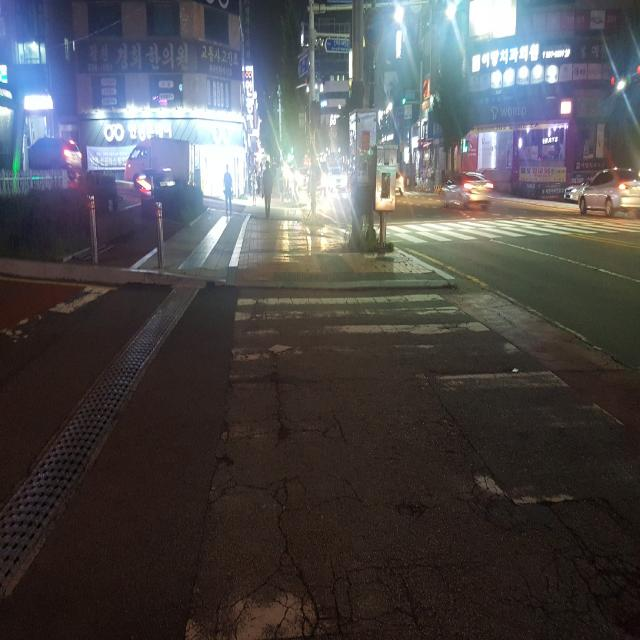횡단보도: (183, 289, 640, 640), (387, 218, 640, 237)
